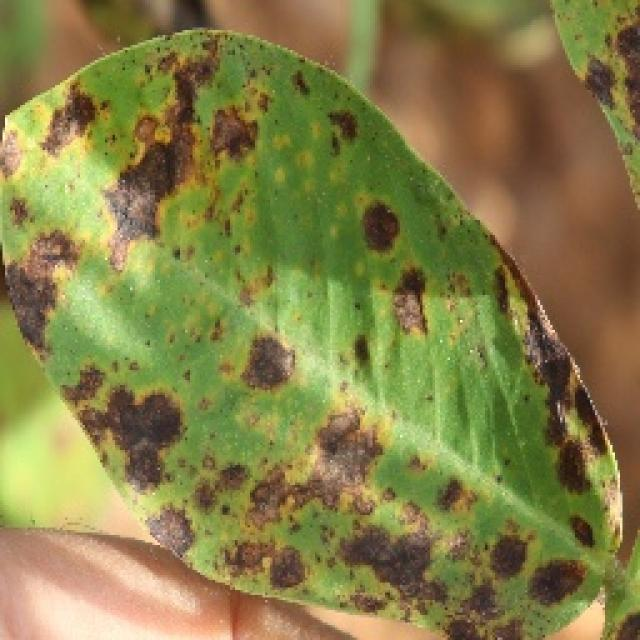Yellowish: (0, 25, 610, 640)
